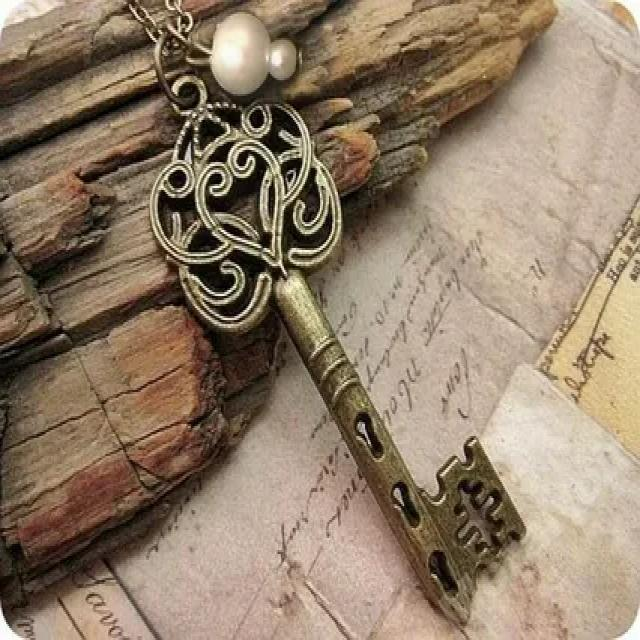key: (138, 80, 535, 627)
